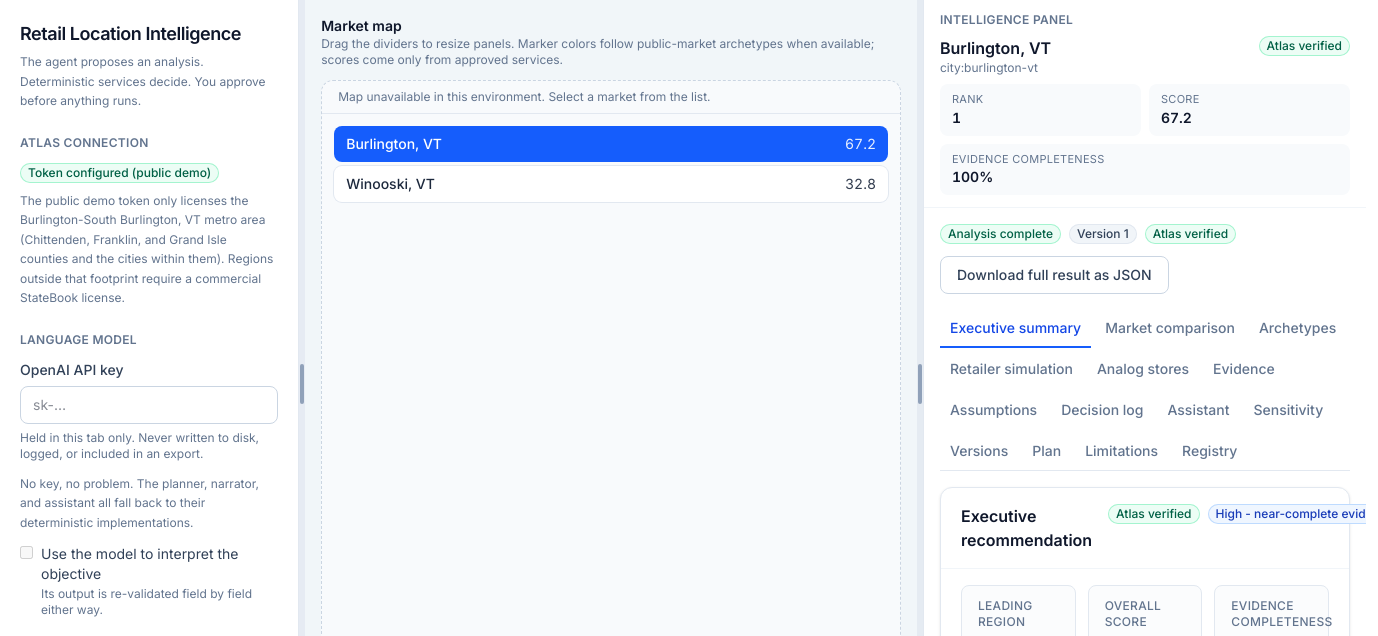
Test: revision confirmation › disables confirmation when the revised plan fails validation
Expected: the heading "Executive recommendation" is shown, [961,504,1092,552]
Click the tab "Assistant". click: [1198, 411]
box: [1158,392,1240,430]
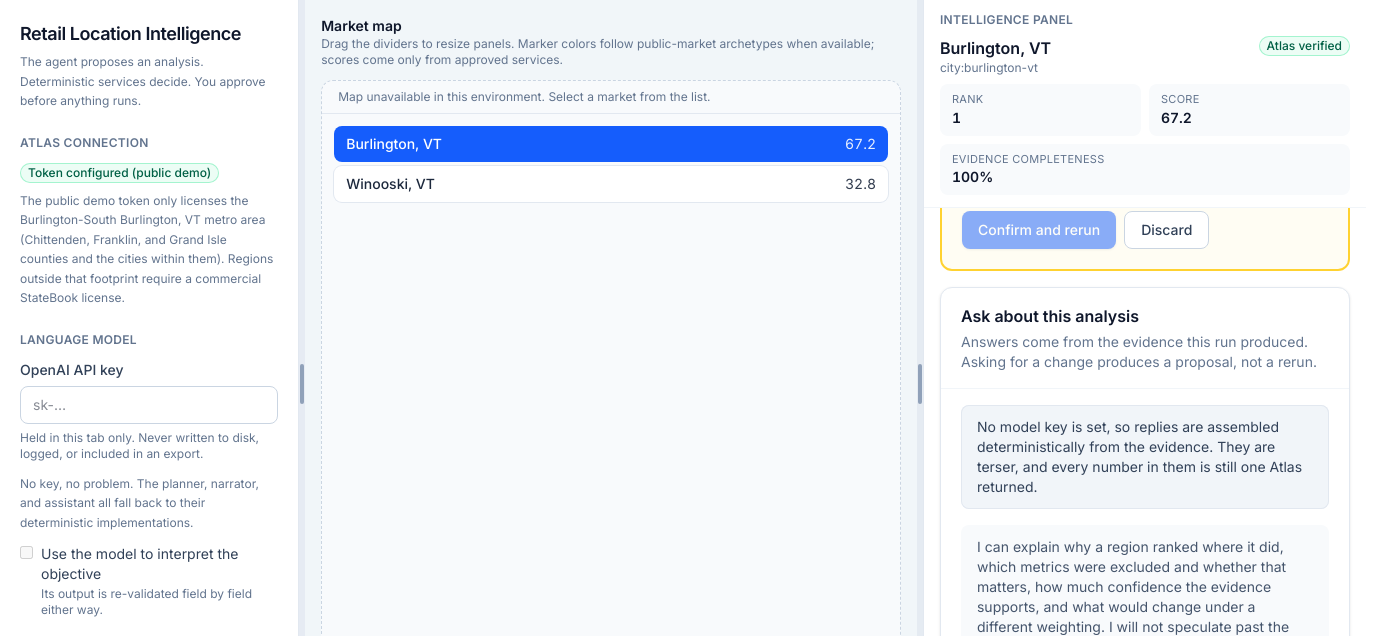
Expected: the button "Confirm and rerun" is disabled, [962,211,1116,249]
